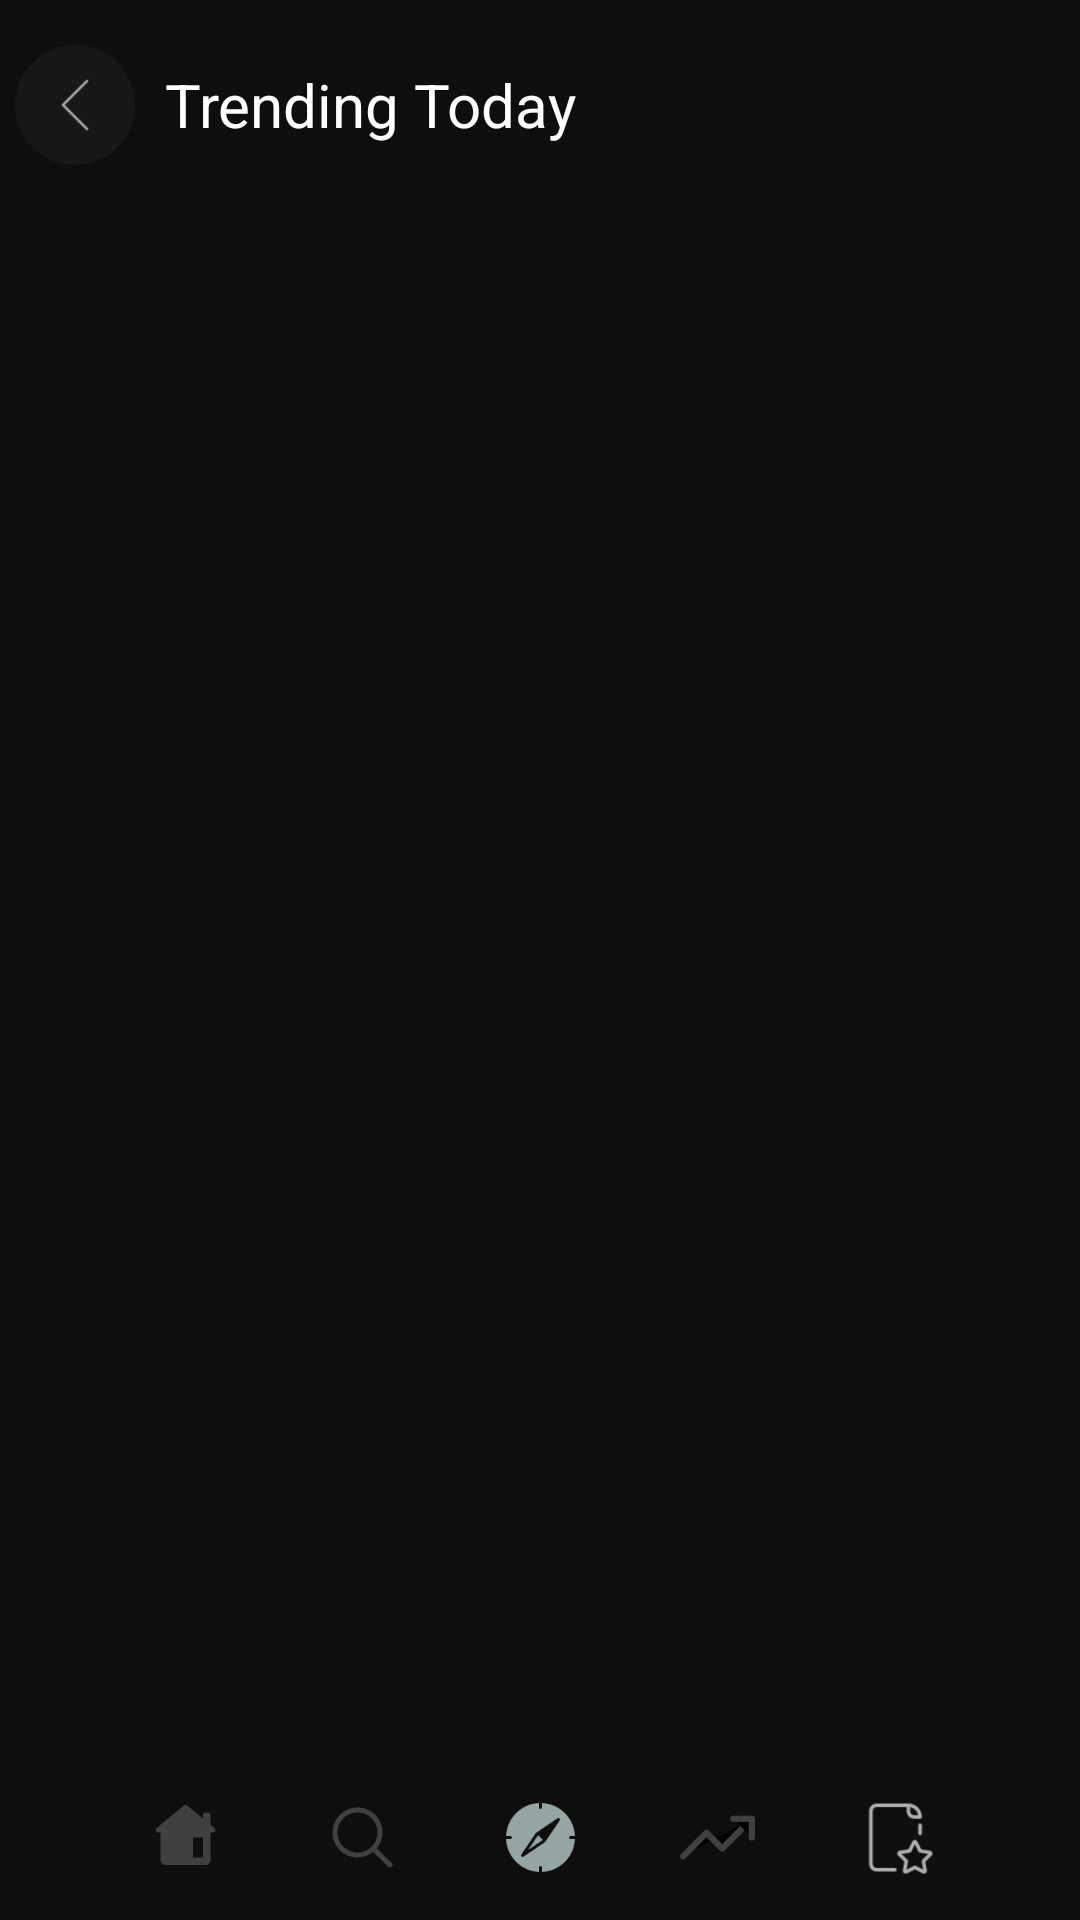

Icon click points for this 1080x1920 phone screenshot, format (x,y):
explore: (540,1837)
fav: (900,1838)
go back: (75,105)
home: (185,1835)
search: (362,1837)
trending: (717,1837)
